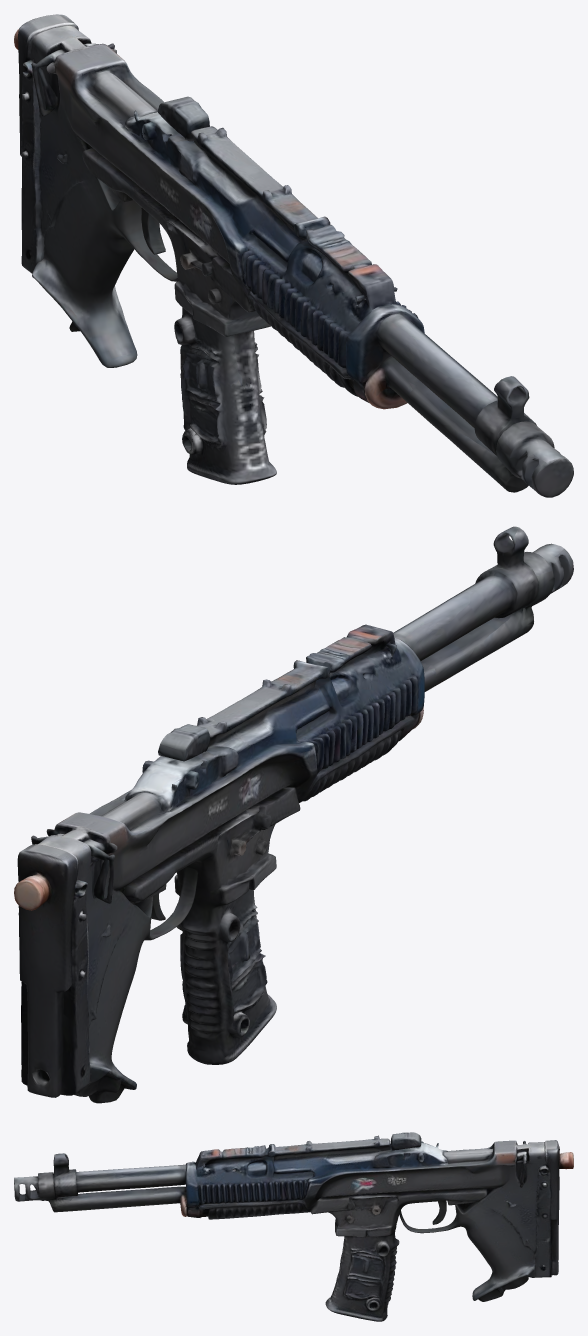
Rendered from arma_policia.glb.
The picture shows the model from 3 angles, top to bottom: view 1: azimuth 30°, elevation 25°; view 2: azimuth 150°, elevation 25°; view 3: azimuth 270°, elevation 25°; orthographic projection. The views are drawn at different scales.
Visible parts, largest first — view 1: tripo_node_3f01ece2-5951-455f-ae00-cc284eccaf01; view 2: tripo_node_3f01ece2-5951-455f-ae00-cc284eccaf01; view 3: tripo_node_3f01ece2-5951-455f-ae00-cc284eccaf01.
Boxes of the visible parts, bbox=[...] form: tripo_node_3f01ece2-5951-455f-ae00-cc284eccaf01: bbox=[14, 14, 573, 497]; tripo_node_3f01ece2-5951-455f-ae00-cc284eccaf01: bbox=[14, 526, 573, 1103]; tripo_node_3f01ece2-5951-455f-ae00-cc284eccaf01: bbox=[14, 1132, 573, 1321].
Size of the model in its own units: 0.0496 by 0.1984 by 0.55.
1 material, 1 textured.
